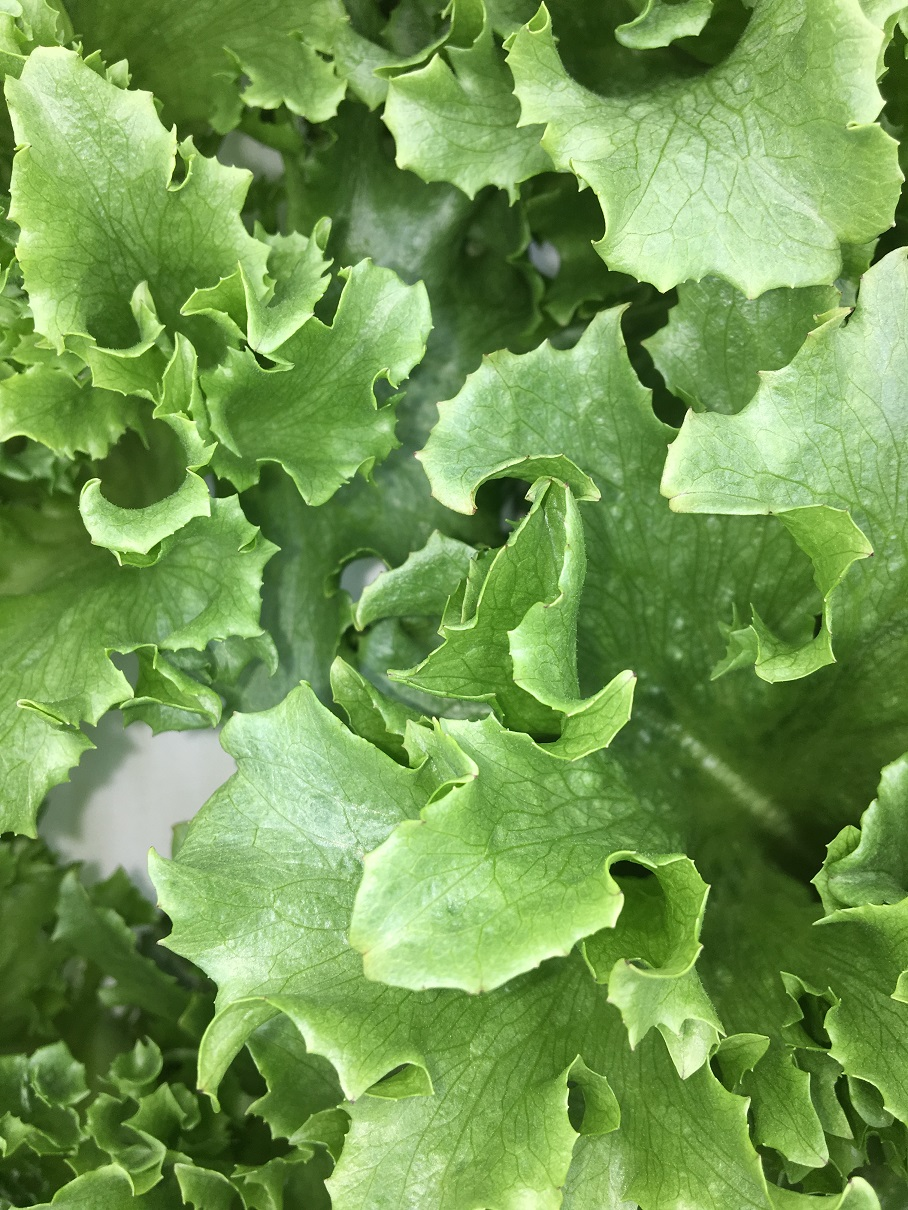tipburn: (336, 1087, 367, 1116), (414, 807, 442, 838), (401, 439, 432, 466), (849, 265, 877, 293), (611, 951, 640, 978), (461, 494, 488, 523), (464, 766, 491, 795), (531, 593, 559, 620), (185, 1078, 211, 1107), (839, 297, 865, 325), (836, 1166, 862, 1194), (556, 473, 581, 500), (861, 541, 886, 567), (747, 362, 772, 387), (587, 487, 611, 512), (556, 534, 580, 558), (20, 135, 42, 159), (624, 663, 646, 687)
